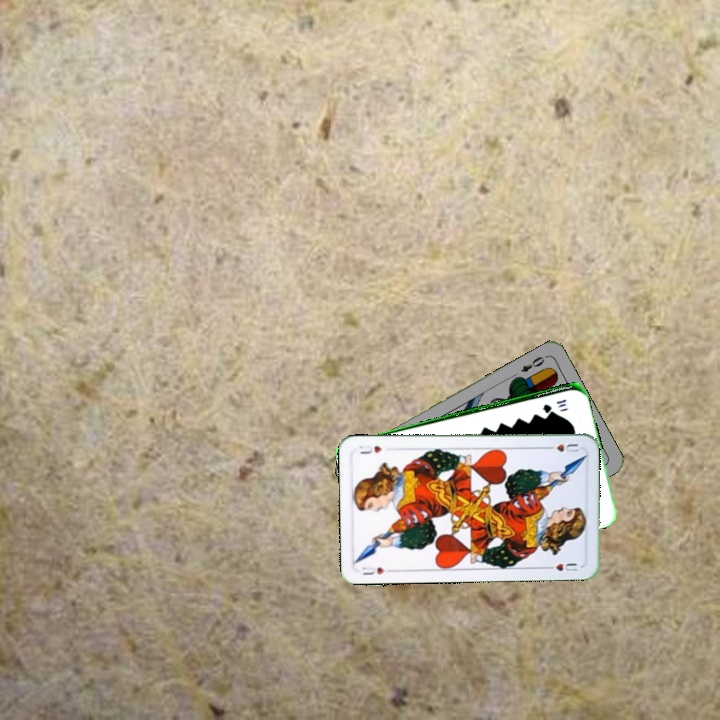EO: (517, 351, 550, 375)
G10: (539, 395, 569, 413)
HU: (542, 440, 582, 454), (359, 562, 387, 578)
